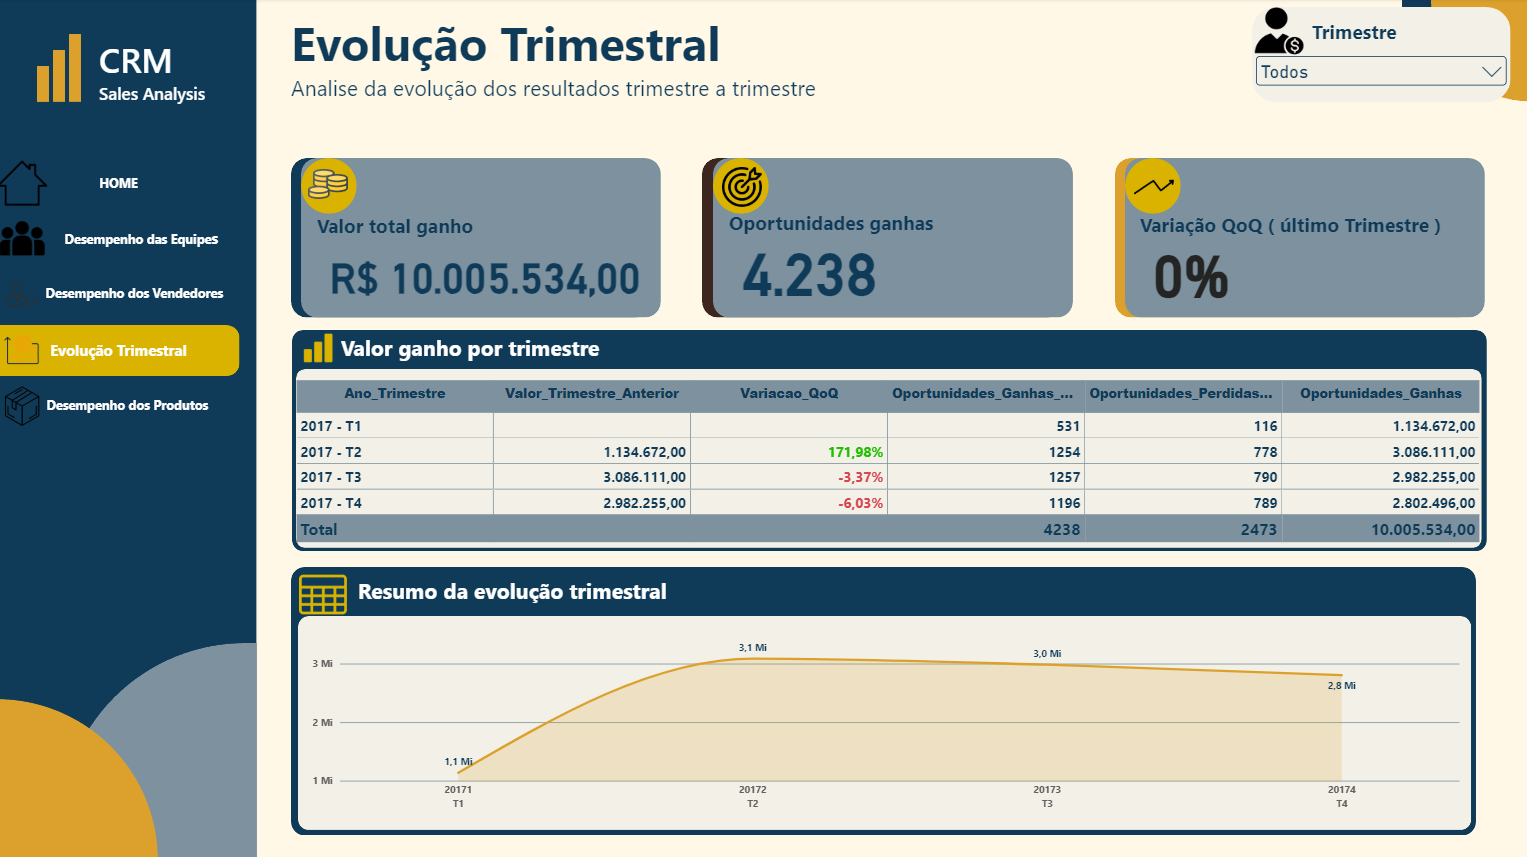

The dashboard page shown, as its layout file describes it:
{"tool":"powerbi","page":{"name":"Evolução Trimestral","canvas":[1920,1080],"ordinal":3},"visuals":[{"type":"shape","title":"Fundo","box":[0,0,1920,1080],"z":0},{"type":"shape","box":[0,0,325,1080],"z":0,"group":"g1"},{"type":"group","id":"g1","title":"obj menu","box":[0,0,325,1080],"z":0,"group":"g11"},{"type":"shape","box":[1760.9,0,159.1,98.7],"z":0,"group":"g4"},{"type":"shape","box":[1572.2,11.8,324.2,119.4],"z":0,"group":"g13"},{"type":"actionButton","box":[0,200,304,64],"z":0,"group":"g5"},{"type":"shape","box":[368,200,450.9,200],"z":0,"group":"g8"},{"type":"shape","box":[883.3,200,451.7,200],"z":0,"group":"g6"},{"type":"group","id":"g2","title":"Variação QoQ","box":[1400.5,200.4,463.2,200.2],"z":0,"group":"g9"},{"type":"shape","box":[1400.5,200.6,450.9,200],"z":0,"group":"g2"},{"type":"image","box":[0,269.7,63.4,63.4],"z":0,"group":"g10"},{"type":"textbox","box":[0,340.4,304.3,64],"z":0,"group":"g12"},{"type":"actionButton","box":[0,410,304,64],"z":0,"group":"g14"},{"type":"group","id":"g3","title":"Valor ganho por trimestre","box":[358.3,415.9,1528.3,287.5],"z":0,"group":"g15"},{"type":"shape","box":[369.2,415.9,1497.1,277.1],"z":0,"group":"g3"},{"type":"actionButton","box":[0,480,304,64],"z":0,"group":"g16"},{"type":"shape","box":[368.7,713.2,1484.7,336.2],"z":0,"group":"g7"},{"type":"group","id":"g4","title":"Título & obg","box":[368.4,0,1551.6,176.9],"z":1000},{"type":"shape","box":[1796.2,0,123.8,129.7],"z":1000,"group":"g4"},{"type":"slicer","fields":{"Values":["Calendario.Ano_Trimestre"]},"box":[1572.2,67.8,324.2,61.9],"z":1000,"group":"g13"},{"type":"shape","box":[50,85,15,45],"z":1000,"group":"g1"},{"type":"group","id":"g5","title":"Home","box":[0,200,304.3,64.6],"z":1000,"group":"g11"},{"type":"shape","box":[380,200,450.9,200],"z":1000,"group":"g8"},{"type":"group","id":"g6","title":"Oportunidades ganhas","box":[883.3,200,464.9,200],"z":1000,"group":"g9"},{"type":"shape","box":[896.6,200,451,200],"z":1000,"group":"g6"},{"type":"textbox","box":[0,200.6,304.3,64],"z":1000,"group":"g5"},{"type":"shape","box":[1412.8,200.6,450.9,200],"z":1000,"group":"g2"},{"type":"textbox","box":[0,270,304.3,64],"z":1000,"group":"g10"},{"type":"image","box":[0,340.4,63.4,63.4],"z":1000,"group":"g12"},{"type":"textbox","box":[0,410,304.3,64],"z":1000,"group":"g14"},{"type":"shape","box":[374.2,464.6,1485.6,224.3],"z":1000,"group":"g3"},{"type":"textbox","box":[0,480,304.3,64],"z":1000,"group":"g16"},{"type":"group","id":"g7","title":"Resumo da evolução trimestral","box":[368.7,705.9,1484.7,343.5],"z":1000,"group":"g15"},{"type":"shape","box":[377.5,774.7,1470,268.3],"z":1000,"group":"g7"},{"type":"image","box":[1575.1,11.8,63.4,60.4],"z":2000,"group":"g13"},{"type":"textbox","box":[368.4,16.2,1146.4,160.6],"z":2000,"group":"g4"},{"type":"shape","box":[70,65,15,65],"z":2000,"group":"g1"},{"type":"group","id":"g8","title":"Valor total ganho","box":[368,200,463.1,200.8],"z":2000,"group":"g9"},{"type":"group","id":"g9","title":"Cartões","box":[368,200,1495.7,200.8],"z":2000},{"type":"image","box":[0,200.4,63.4,63.4],"z":2000,"group":"g5"},{"type":"shape","box":[380.2,200.4,70,70],"z":2000,"group":"g8"},{"type":"shape","box":[897.3,200.4,70,70],"z":2000,"group":"g6"},{"type":"shape","box":[1413.1,200.4,70,70],"z":2000,"group":"g2"},{"type":"group","id":"g10","title":"Desempenho das equipes","box":[0,269.7,304.3,64.3],"z":2000,"group":"g11"},{"type":"actionButton","box":[0,270,304,64],"z":2000,"group":"g10"},{"type":"actionButton","box":[0,340,304,64],"z":2000,"group":"g12"},{"type":"image","box":[0,409.6,63.4,63.4],"z":2000,"group":"g14"},{"type":"textbox","box":[430.5,419.5,1211.4,61.4],"z":2000,"group":"g3"},{"type":"image","box":[0,480.4,63.4,63.4],"z":2000,"group":"g16"},{"type":"image","box":[379,705.9,60.1,84.5],"z":2000,"group":"g7"},{"type":"group","id":"g11","title":"Menu","box":[0,0,325,1080],"z":3000},{"type":"textbox","box":[1647.3,25.1,253.4,60.4],"z":3000,"group":"g13"},{"type":"shape","box":[90,45,15,85],"z":3000,"group":"g1"},{"type":"actionButton","box":[0,200,304,64],"z":3000,"group":"g5"},{"type":"image","box":[389.8,207.9,50,50],"z":3000,"group":"g8"},{"type":"image","box":[908,211.2,50,50],"z":3000,"group":"g6"},{"type":"image","box":[1424.6,211.2,50.4,50.4],"z":3000,"group":"g2"},{"type":"group","id":"g12","title":"Desempenho dos vendedores","box":[0,340,304.3,64.4],"z":3000,"group":"g11"},{"type":"image","box":[380.3,416.1,42.9,44.3],"z":3000,"group":"g3"},{"type":"actionButton","box":[0,480.4,304,64],"z":3000,"group":"g16"},{"type":"textbox","box":[452.5,724.5,1196.7,60],"z":3000,"group":"g7"},{"type":"group","id":"g13","title":"Filtro","box":[1572.2,11.8,328.6,119.4],"z":4000},{"type":"textbox","box":[128,48,160,96],"z":4000,"group":"g1"},{"type":"cardVisual","title":"Oportunidades ganhas","fields":{"Data":["crm_sales sales_pipeline.Oportunidades_Ganhas_Qtd_Display"]},"box":[897.3,263.8,450.9,132.6],"z":4000,"group":"g6"},{"type":"cardVisual","title":"Variação QoQ ( último Trimestre )","fields":{"Data":["Calendario.Variacao_QoQ"]},"box":[1411.6,266.4,450.9,132.6],"z":4000,"group":"g2"},{"type":"cardVisual","title":"Valor total ganho","fields":{"Data":["crm_sales sales_pipeline.Oportunidades_Ganhas_Display"]},"box":[380.2,268.2,450.9,132.6],"z":4000,"group":"g8"},{"type":"group","id":"g14","title":"Evolução Trimestral","box":[0,409.6,304.3,64.4],"z":4000,"group":"g11"},{"type":"tableEx","fields":{"Values":["Calendario.Ano_Trimestre","Calendario.Valor_Trimestre_Anterior","Calendario.Variacao_QoQ","crm_sales sales_pipeline.Oportunidades_Ganhas_Qtd","crm_sales sales_pipeline.Oportunidades_Perdidas_Qtd","crm_sales sales_pipeline.Oportunidades_Ganhas"]},"box":[358.3,465,1528.3,238.3],"z":4000,"group":"g3"},{"type":"areaChart","fields":{"Category":["Calendario.Trimestre","Calendario.Ordem_Ano_Trimestre"],"Y":["crm_sales sales_pipeline.Oportunidades_Ganhas"]},"box":[378.3,775.1,1470,268.3],"z":4000,"group":"g7"},{"type":"group","id":"g15","title":"Tabela & Gráfico","box":[358.3,415.9,1528.3,633.5],"z":5000},{"type":"group","id":"g16","title":"Desempenho dos produtos","box":[0,480,304.3,64.4],"z":5000,"group":"g11"},{"type":"shape","box":[78.3,808.3,246.7,271.7],"z":5000,"group":"g1"},{"type":"shape","box":[0,878.3,201.7,201.7],"z":6000,"group":"g1"}]}

Visuals, with their boxes in screenshot pixels (x1, y1, x2, y2), scaled from the page's 1920x1080 canvas onto the 1527x857 screenshot:
"Fundo" shape: l=0, t=0, r=1526, b=856
shape: l=0, t=0, r=258, b=856
"obj menu" group: l=0, t=0, r=258, b=856
shape: l=1400, t=0, r=1526, b=78
shape: l=1250, t=9, r=1508, b=104
actionButton: l=0, t=159, r=242, b=209
shape: l=293, t=159, r=651, b=317
shape: l=702, t=159, r=1062, b=317
"Variação QoQ" group: l=1114, t=159, r=1482, b=318
shape: l=1114, t=159, r=1472, b=318
image: l=0, t=214, r=50, b=264
textbox: l=0, t=270, r=242, b=321
actionButton: l=0, t=325, r=242, b=376
"Valor ganho por trimestre" group: l=285, t=330, r=1500, b=558
shape: l=294, t=330, r=1484, b=550
actionButton: l=0, t=381, r=242, b=432
shape: l=293, t=566, r=1474, b=833
"Título & obg" group: l=293, t=0, r=1526, b=140
shape: l=1429, t=0, r=1526, b=103
slicer - Calendario.Ano_Trimestre: l=1250, t=54, r=1508, b=103
shape: l=40, t=67, r=52, b=103
"Home" group: l=0, t=159, r=242, b=210
shape: l=302, t=159, r=661, b=317
"Oportunidades ganhas" group: l=702, t=159, r=1072, b=317
shape: l=713, t=159, r=1072, b=317
textbox: l=0, t=159, r=242, b=210
shape: l=1124, t=159, r=1482, b=318
textbox: l=0, t=214, r=242, b=265
image: l=0, t=270, r=50, b=320
textbox: l=0, t=325, r=242, b=376
shape: l=298, t=369, r=1479, b=547
textbox: l=0, t=381, r=242, b=432
"Resumo da evolução trimestral" group: l=293, t=560, r=1474, b=833
shape: l=300, t=615, r=1469, b=828
image: l=1253, t=9, r=1303, b=57
textbox: l=293, t=13, r=1205, b=140
shape: l=56, t=52, r=68, b=103
"Valor total ganho" group: l=293, t=159, r=661, b=318
"Cartões" group: l=293, t=159, r=1482, b=318
image: l=0, t=159, r=50, b=209
shape: l=302, t=159, r=358, b=215
shape: l=714, t=159, r=769, b=215
shape: l=1124, t=159, r=1180, b=215
"Desempenho das equipes" group: l=0, t=214, r=242, b=265
actionButton: l=0, t=214, r=242, b=265
actionButton: l=0, t=270, r=242, b=321
image: l=0, t=325, r=50, b=375
textbox: l=342, t=333, r=1306, b=382
image: l=0, t=381, r=50, b=432
image: l=301, t=560, r=349, b=627
"Menu" group: l=0, t=0, r=258, b=856
textbox: l=1310, t=20, r=1512, b=68
shape: l=72, t=36, r=84, b=103
actionButton: l=0, t=159, r=242, b=209
image: l=310, t=165, r=350, b=205
image: l=722, t=168, r=762, b=207
image: l=1133, t=168, r=1173, b=208
"Desempenho dos vendedores" group: l=0, t=270, r=242, b=321
image: l=302, t=330, r=337, b=365
actionButton: l=0, t=381, r=242, b=432
textbox: l=360, t=575, r=1312, b=623
"Filtro" group: l=1250, t=9, r=1512, b=104
textbox: l=102, t=38, r=229, b=114
"Oportunidades ganhas" cardVisual: l=714, t=209, r=1072, b=315
"Variação QoQ ( último Trimestre )" cardVisual: l=1123, t=211, r=1481, b=317
"Valor total ganho" cardVisual: l=302, t=213, r=661, b=318
"Evolução Trimestral" group: l=0, t=325, r=242, b=376
tableEx - Calendario.Ano_Trimestre x Calendario.Valor_Trimestre_Anterior: l=285, t=369, r=1500, b=558
areaChart - Calendario.Trimestre x Calendario.Ordem_Ano_Trimestre: l=301, t=615, r=1470, b=828
"Tabela & Gráfico" group: l=285, t=330, r=1500, b=833
"Desempenho dos produtos" group: l=0, t=381, r=242, b=432
shape: l=62, t=641, r=258, b=856
shape: l=0, t=697, r=160, b=856
